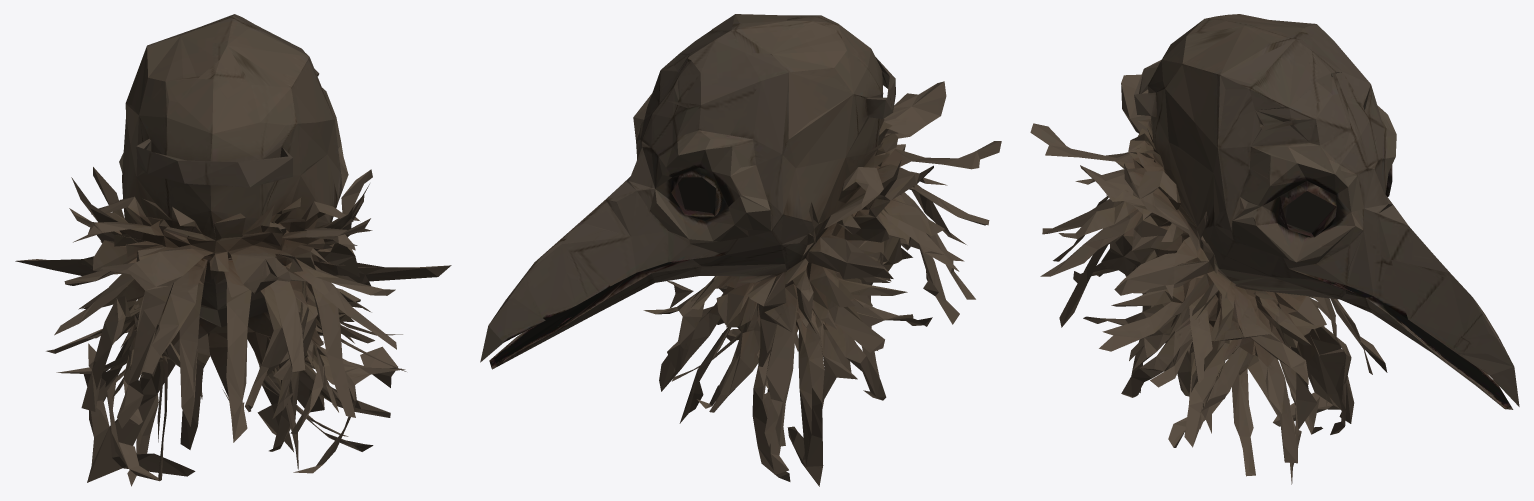
Rendered from vulture.glb.
The picture shows the model from 3 angles, left to right: view 1: azimuth 30°, elevation 25°; view 2: azimuth 150°, elevation 25°; view 3: azimuth 270°, elevation 25°; orthographic projection. The views are drawn at different scales.
Parts seen in each view (by area): view 1: tripo_node_110a91e6-31c5-4934-adb1-50dc9e5b7fcd; view 2: tripo_node_110a91e6-31c5-4934-adb1-50dc9e5b7fcd; view 3: tripo_node_110a91e6-31c5-4934-adb1-50dc9e5b7fcd.
Boxes of the visible parts, <box> form: tripo_node_110a91e6-31c5-4934-adb1-50dc9e5b7fcd: <box>15,14,451,486</box>; tripo_node_110a91e6-31c5-4934-adb1-50dc9e5b7fcd: <box>480,14,1001,486</box>; tripo_node_110a91e6-31c5-4934-adb1-50dc9e5b7fcd: <box>1030,14,1519,484</box>.
Bounding box in the file's own units: 0.8398 × 1 × 1.02.
1 material, 1 textured.
